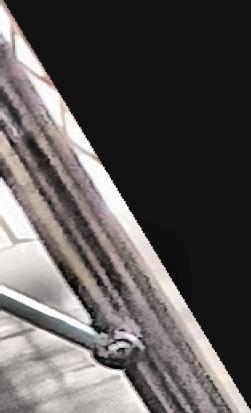obstacle: (1, 1, 251, 413)
